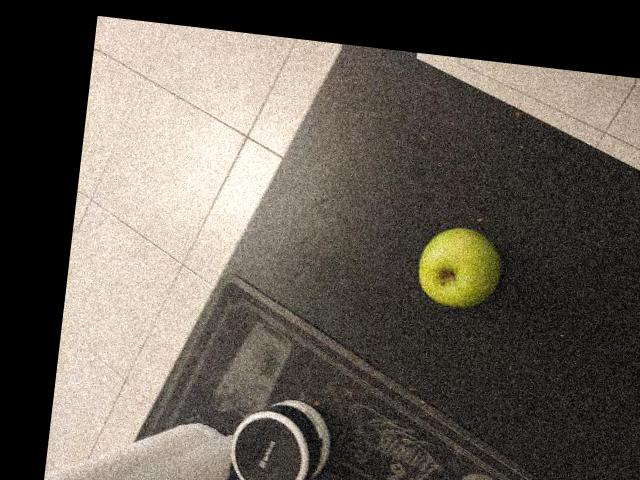apple: (232, 64, 355, 196)
